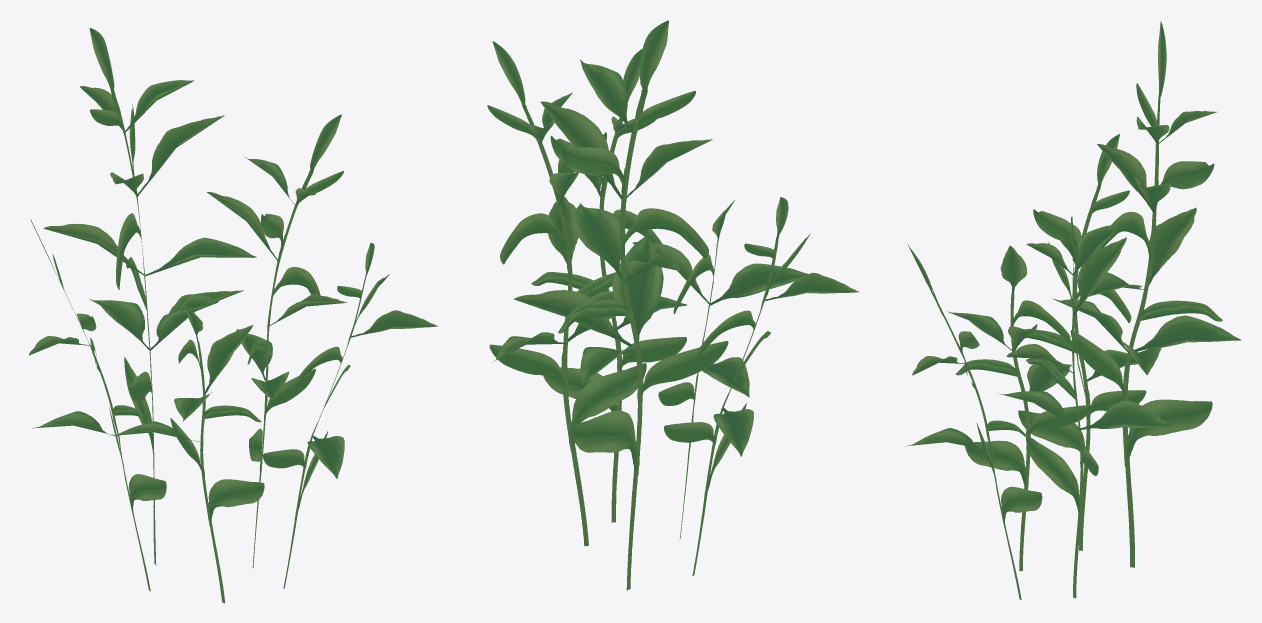
Rendered from MEADOW_SM_Plant_01_03.gltf.
The picture shows the model from 3 angles, left to right: view 1: azimuth 30°, elevation 25°; view 2: azimuth 150°, elevation 25°; view 3: azimuth 270°, elevation 25°; orthographic projection. The views are drawn at different scales.
Visible parts, largest first — view 1: SM_Plant_01_03_LOD0; view 2: SM_Plant_01_03_LOD0; view 3: SM_Plant_01_03_LOD0.
Part boxes in pixels (bbox=[...]): SM_Plant_01_03_LOD0: bbox=[29, 28, 437, 603]; SM_Plant_01_03_LOD0: bbox=[487, 20, 858, 590]; SM_Plant_01_03_LOD0: bbox=[905, 21, 1240, 599].
Bounding box in the file's own units: 0.62 × 0.9119 × 0.5539.
Materials: 1 (1 with a texture image).
